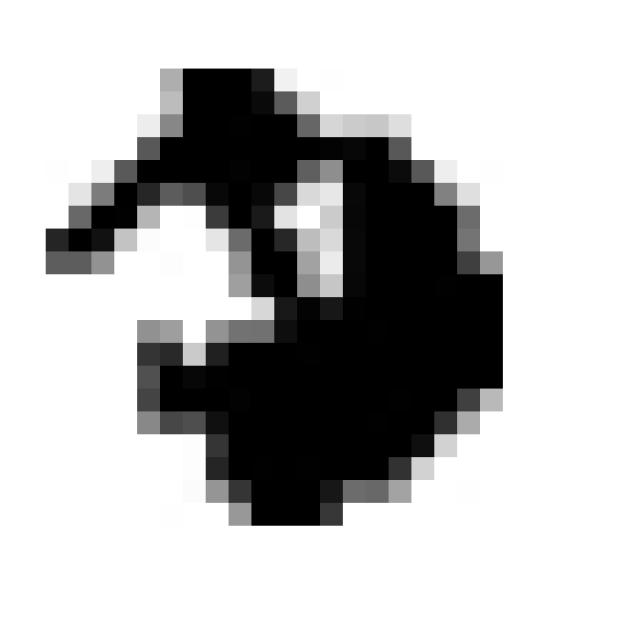0 -zero-: (23, 34, 521, 539)
